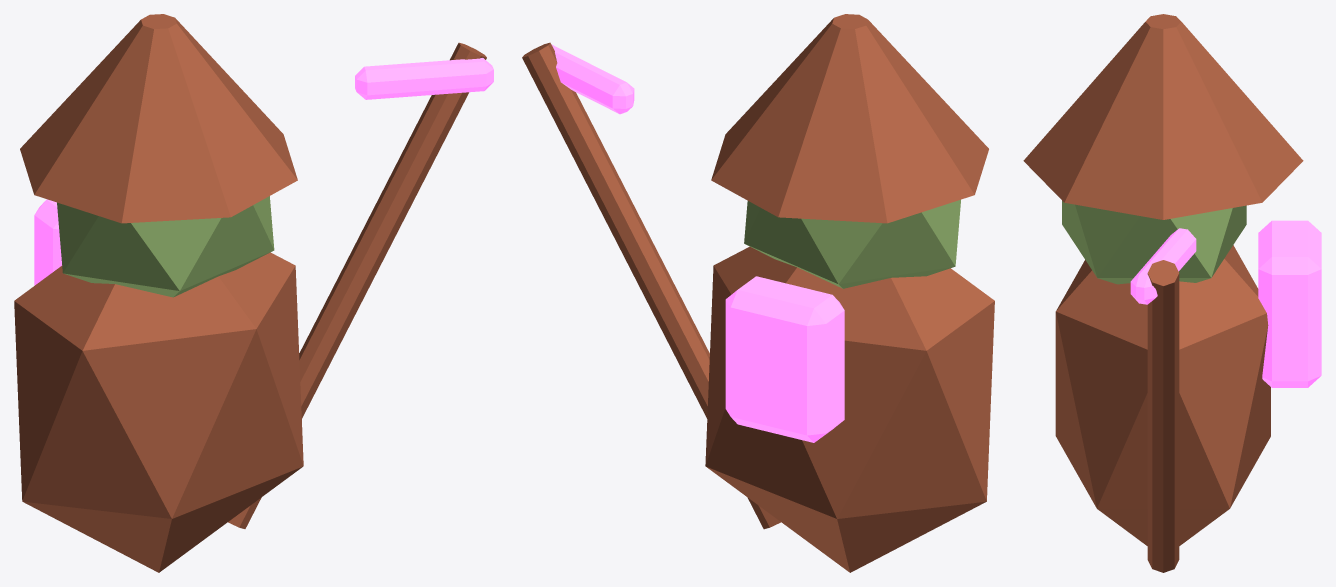
File: enemy_rift_sapper.glb
The picture shows the model from 3 angles, left to right: view 1: azimuth 30°, elevation 25°; view 2: azimuth 150°, elevation 25°; view 3: azimuth 270°, elevation 25°; orthographic projection. The views are drawn at different scales.
Parts seen in each view (by area): view 1: enemy_rift_sapper; view 2: enemy_rift_sapper; view 3: enemy_rift_sapper.
Boxes of the visible parts, x1,y1,x2,y2 form: enemy_rift_sapper: [14, 14, 493, 572]; enemy_rift_sapper: [522, 14, 994, 572]; enemy_rift_sapper: [1023, 14, 1321, 572].
Bounding box in the file's own units: 1.15 × 1.31 × 0.66.
